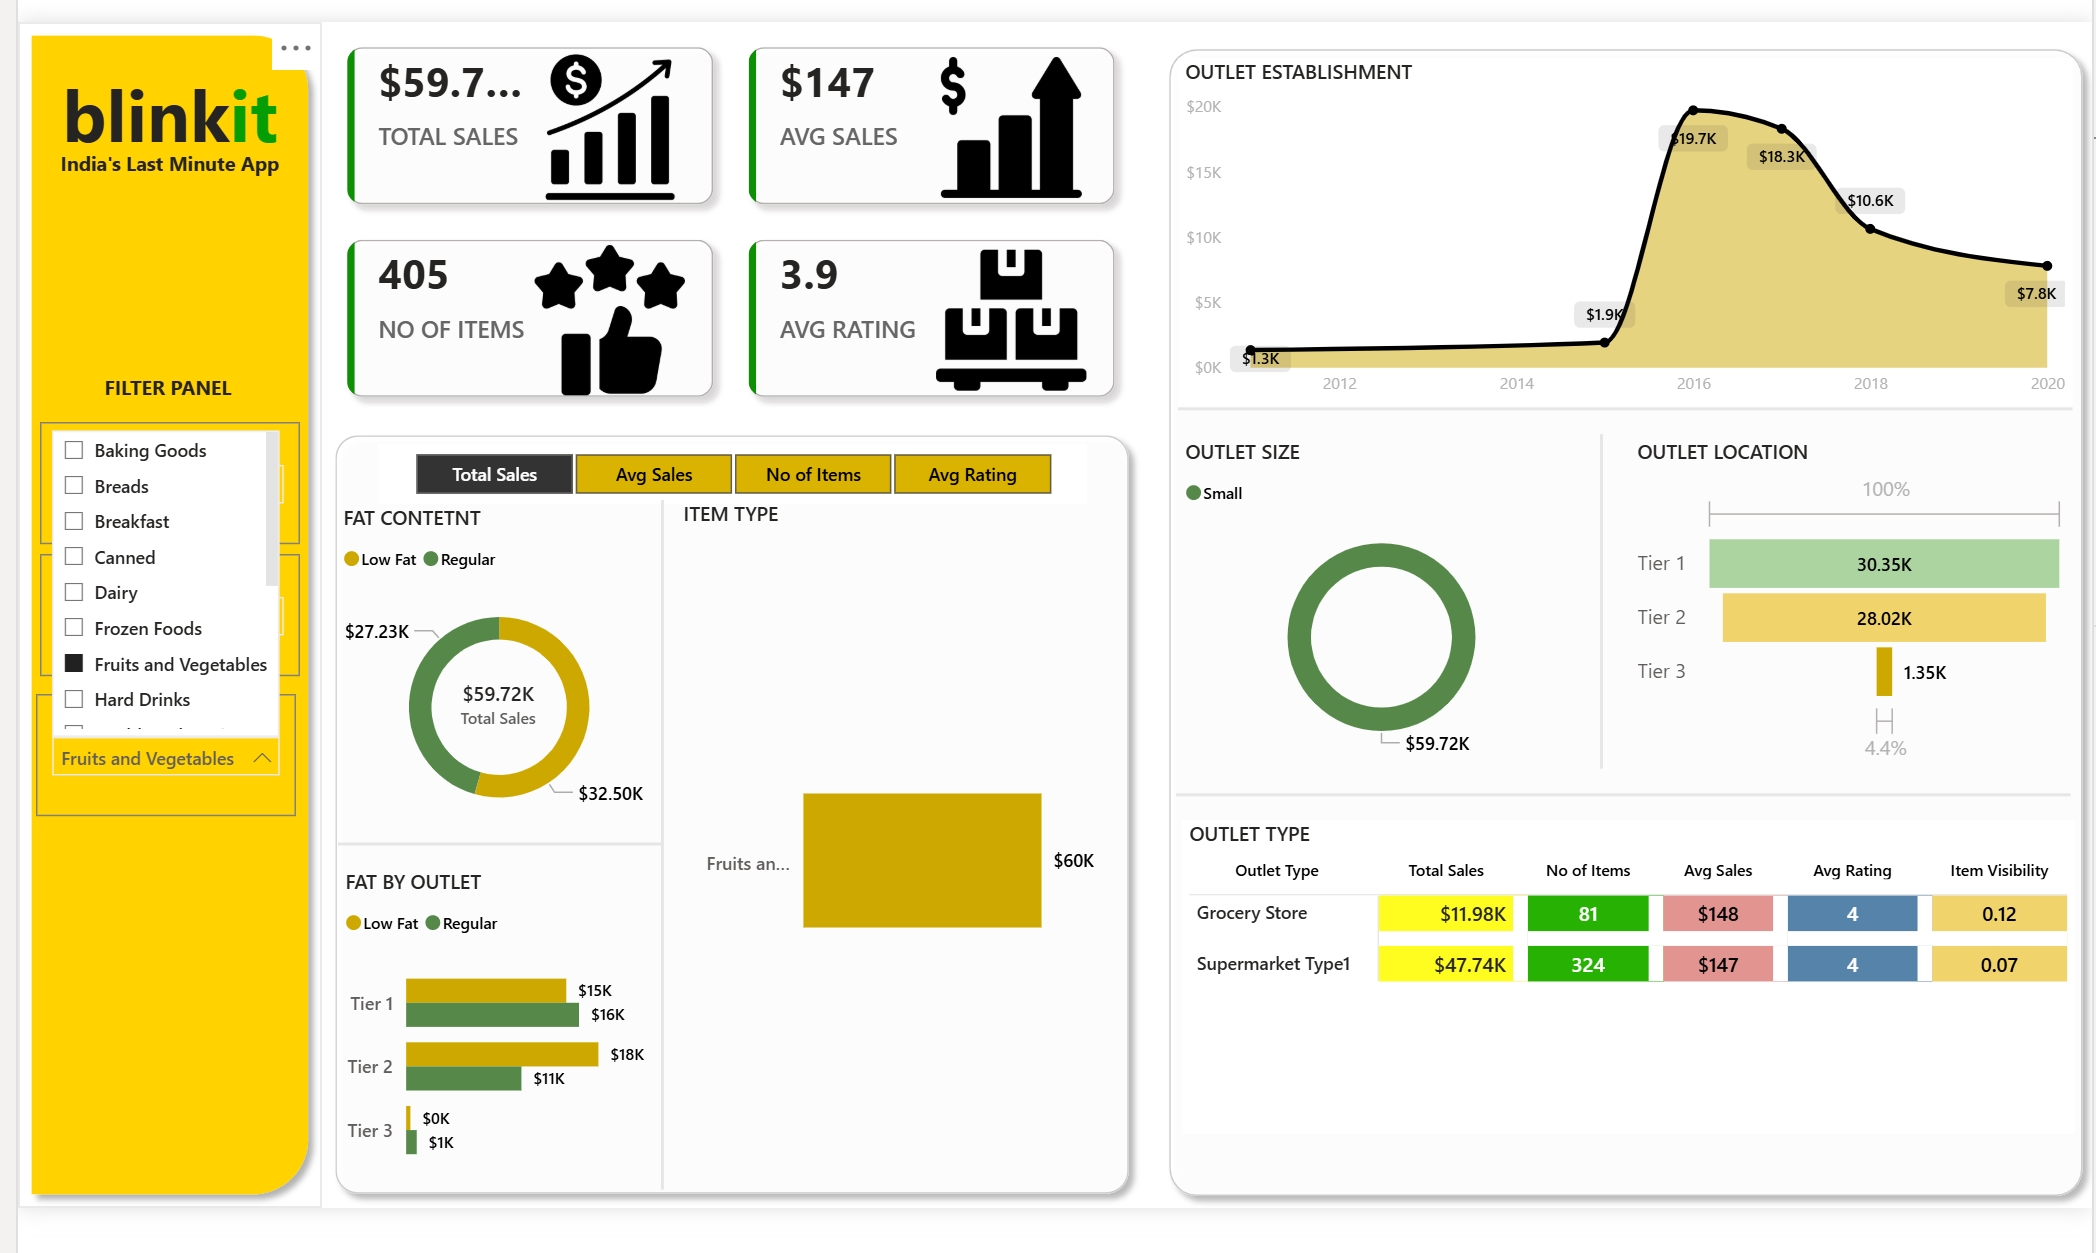

The page's visual inventory and layout, read from the dashboard file:
{"tool":"powerbi","page":{"name":"Page 1","canvas":[1400,800],"ordinal":0},"visuals":[{"type":"shape","box":[0,0,205,800.4],"z":0},{"type":"textbox","box":[14.9,24.3,175.5,75.6],"z":1000},{"type":"textbox","box":[0,80.9,205,37.6],"z":2000},{"type":"cardVisual","fields":{"Data":["BlinkIT Grocery Data.Total Sales","BlinkIT Grocery Data.Avg Sales","BlinkIT Grocery Data.No of Items","BlinkIT Grocery Data.Avg Rating"]},"box":[205,0,553.6,270.5],"z":3000},{"type":"shape","box":[205,270.5,553.6,529.9],"z":4000},{"type":"donutChart","title":"FAT CONTETNT","fields":{"Y":["BlinkIT Grocery Data.Total Sales"],"Category":["BlinkIT Grocery Data.Item Fat Content"]},"box":[214.7,324.9,220.3,230.1],"z":5000},{"type":"slicer","fields":{"Values":["Metrics.Metrics"]},"box":[242.6,284.5,478.3,40.4],"z":6000},{"type":"cardVisual","fields":{"Data":["BlinkIT Grocery Data.Total Sales"]},"box":[274.7,416.9,100.4,86.5],"z":7000},{"type":"clusteredBarChart","title":"FAT BY OUTLET","fields":{"Y":["BlinkIT Grocery Data.Total Sales"],"Category":["BlinkIT Grocery Data.Outlet Location Type"],"Series":["BlinkIT Grocery Data.Item Fat Content"]},"box":[216,571.1,220.1,217.4],"z":8000},{"type":"shape","box":[216,538.7,220.1,32.4],"z":9000},{"type":"shape","box":[425.3,322.1,19.5,465.7],"z":10000},{"type":"barChart","title":"ITEM TYPE","fields":{"Y":["BlinkIT Grocery Data.Total Sales"],"Category":["BlinkIT Grocery Data.Item Type"]},"box":[444.8,322.1,292.8,465.7],"z":11000},{"type":"shape","box":[768.3,9.8,634.5,792],"z":12000},{"type":"lineChart","title":"OUTLET ESTABLISHMENT","fields":{"Y":["BlinkIT Grocery Data.Total Sales"],"Category":["BlinkIT Grocery Data.Outlet Establishment Year"]},"box":[783.7,23.7,603.8,237.1],"z":13000},{"type":"shape","box":[783.7,244,603.8,33.5],"z":14000},{"type":"donutChart","title":"OUTLET SIZE","fields":{"Y":["BlinkIT Grocery Data.Total Sales"],"Category":["BlinkIT Grocery Data.Outlet Size"]},"box":[783.7,280.3,274.7,224.5],"z":15000},{"type":"shape","box":[1058.4,277.5,20.9,225.9],"z":16000},{"type":"funnel","title":"OUTLET LOCATION","fields":{"Y":["Sum(BlinkIT Grocery Data.Sales)"],"Category":["BlinkIT Grocery Data.Outlet Location Type"]},"box":[1087.6,280.3,299.8,224.5],"z":17000},{"type":"shape","box":[782.3,504.8,603.8,33.5],"z":18000},{"type":"pivotTable","title":"OUTLET TYPE","fields":{"Rows":["BlinkIT Grocery Data.Outlet Type"],"Values":["BlinkIT Grocery Data.Total Sales","BlinkIT Grocery Data.No of Items","BlinkIT Grocery Data.Avg Sales","BlinkIT Grocery Data.Avg Rating","Avg(BlinkIT Grocery Data.Item Visibility)"]},"box":[785.1,538.2,602.4,212],"z":19000},{"type":"slicer","fields":{"Values":["BlinkIT Grocery Data.Outlet Location Type"]},"box":[15.3,270.5,175.7,82.3],"z":20000},{"type":"slicer","fields":{"Values":["BlinkIT Grocery Data.Outlet Size"]},"box":[15.3,359.8,175.7,82.3],"z":21000},{"type":"slicer","fields":{"Values":["BlinkIT Grocery Data.Item Type"]},"box":[12.5,453.2,175.7,82.3],"z":22000},{"type":"textbox","box":[14.9,232.2,172.8,31.1],"z":22001}]}

Visuals, with their boxes on the page's 1400x800 design canvas (x1, y1, x2, y2). These are canvas units, not pixel positions in the 2096x1253 screenshot, which may show the page scaled, cropped or inside an application window:
shape: crop(0, 0, 205, 800)
textbox: crop(15, 24, 190, 100)
textbox: crop(0, 81, 205, 118)
cardVisual - BlinkIT Grocery Data.Total Sales x BlinkIT Grocery Data.Avg Sales: crop(205, 0, 759, 270)
shape: crop(205, 270, 759, 800)
"FAT CONTETNT" donutChart: crop(215, 325, 435, 555)
slicer - Metrics.Metrics: crop(243, 284, 721, 325)
cardVisual - BlinkIT Grocery Data.Total Sales: crop(275, 417, 375, 503)
"FAT BY OUTLET" clusteredBarChart: crop(216, 571, 436, 788)
shape: crop(216, 539, 436, 571)
shape: crop(425, 322, 445, 788)
"ITEM TYPE" barChart: crop(445, 322, 738, 788)
shape: crop(768, 10, 1403, 802)
"OUTLET ESTABLISHMENT" lineChart: crop(784, 24, 1388, 261)
shape: crop(784, 244, 1388, 278)
"OUTLET SIZE" donutChart: crop(784, 280, 1058, 505)
shape: crop(1058, 278, 1079, 503)
"OUTLET LOCATION" funnel: crop(1088, 280, 1387, 505)
shape: crop(782, 505, 1386, 538)
"OUTLET TYPE" pivotTable: crop(785, 538, 1388, 750)
slicer - BlinkIT Grocery Data.Outlet Location Type: crop(15, 270, 191, 353)
slicer - BlinkIT Grocery Data.Outlet Size: crop(15, 360, 191, 442)
slicer - BlinkIT Grocery Data.Item Type: crop(12, 453, 188, 536)
textbox: crop(15, 232, 188, 263)
